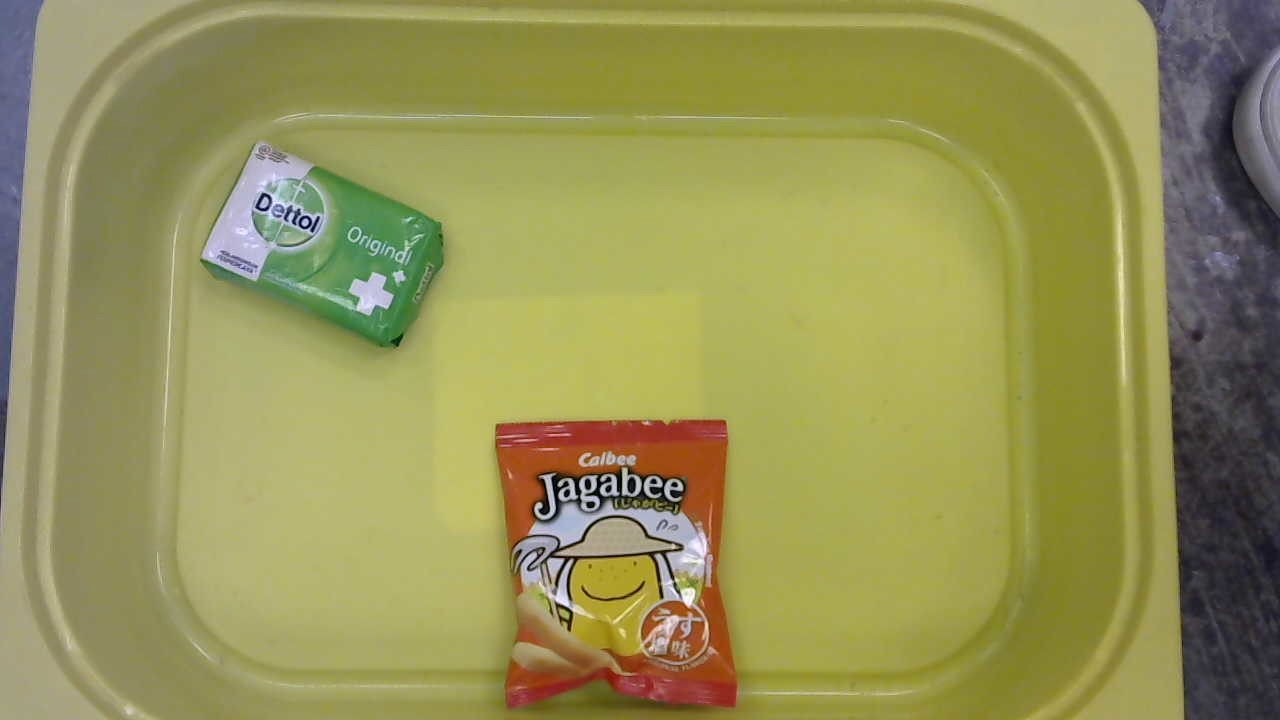Dettol: (198, 139, 453, 352)
JagabeeFarmer: (483, 418, 750, 717)
